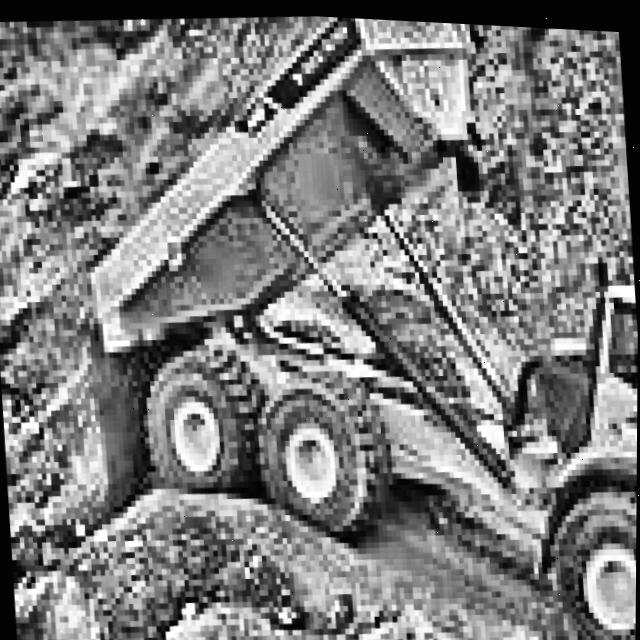dump_truck: (61, 3, 640, 640)
